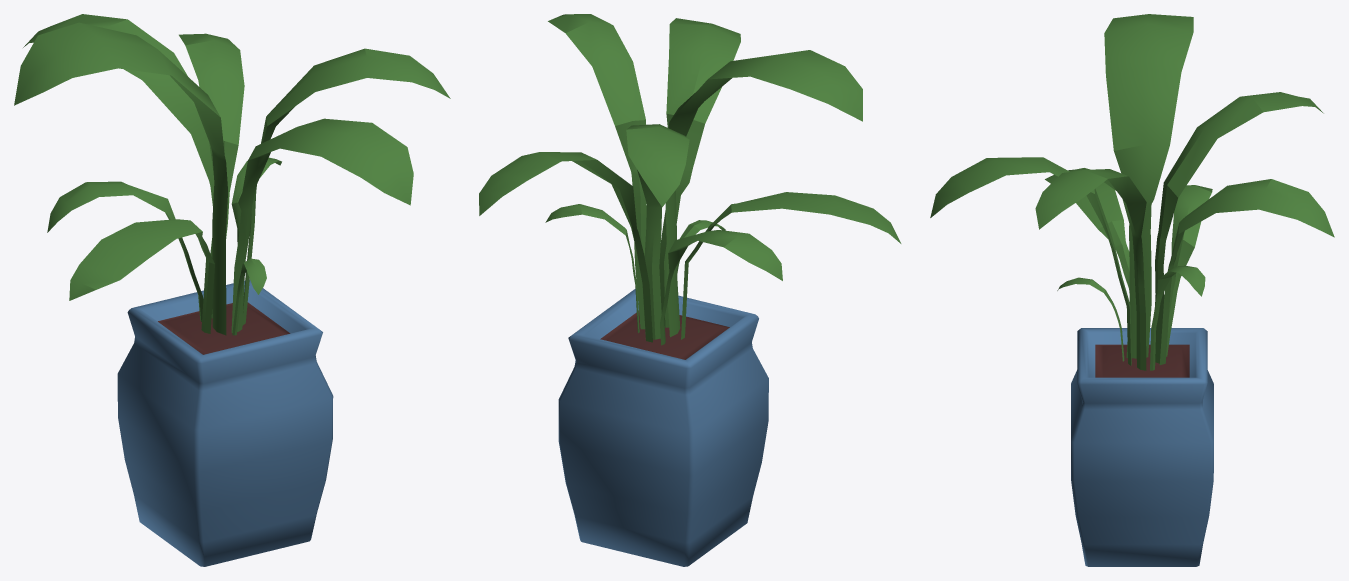
File: Plant.fbx
The picture shows the model from 3 angles, left to right: view 1: azimuth 30°, elevation 25°; view 2: azimuth 150°, elevation 25°; view 3: azimuth 270°, elevation 25°; orthographic projection. The views are drawn at different scales.
Visible parts, largest first — view 1: Cube, Leaf.002, Leaf.007, Leaf.008, Leaf.004, Leaf.005, Leaf.001, Leaf.003, Leaf.009, Leaf.006; view 2: Cube, Leaf.002, Leaf.007, Leaf.004, Leaf.001, Leaf.005, Leaf.008, Leaf.003, Leaf.006; view 3: Cube, Leaf.002, Leaf.001, Leaf.005, Leaf.004, Leaf.007, Leaf.003, Leaf.008, Leaf.006.
Part boxes in pixels (box(x1,y1,x2,y2)): Cube: box(117, 279, 333, 566); Leaf.002: box(14, 22, 227, 335); Leaf.007: box(231, 118, 413, 332); Leaf.008: box(69, 219, 214, 333); Leaf.004: box(242, 48, 450, 325); Leaf.005: box(179, 33, 244, 318); Leaf.001: box(23, 14, 214, 205); Leaf.003: box(47, 181, 203, 321); Leaf.009: box(232, 258, 266, 335); Leaf.006: box(231, 157, 281, 243); Cube: box(558, 288, 768, 566); Leaf.002: box(665, 50, 862, 337); Leaf.007: box(659, 18, 740, 327); Leaf.004: box(548, 14, 646, 329); Leaf.001: box(626, 124, 689, 339); Leaf.005: box(479, 152, 652, 342); Leaf.008: box(681, 192, 901, 339); Leaf.003: box(660, 230, 782, 345); Leaf.006: box(545, 204, 639, 332); Cube: box(1071, 328, 1213, 566); Leaf.002: box(1104, 14, 1193, 358); Leaf.001: box(1155, 92, 1323, 363); Leaf.005: box(1159, 179, 1334, 364); Leaf.004: box(1035, 169, 1146, 370); Leaf.007: box(930, 157, 1131, 365); Leaf.003: box(1166, 185, 1212, 356); Leaf.008: box(1045, 168, 1129, 292); Leaf.006: box(1150, 265, 1205, 370).
Bounding box in the file's own units: 123 × 163 × 128.
